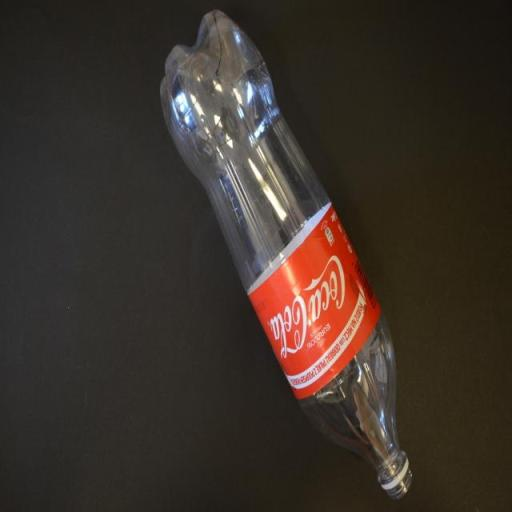plastic: (158, 10, 416, 506)
